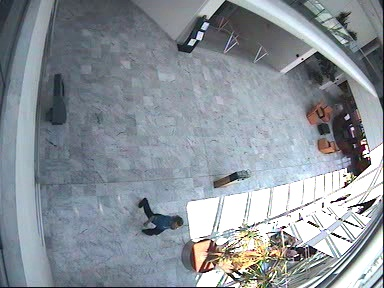person: (137, 198, 183, 236)
